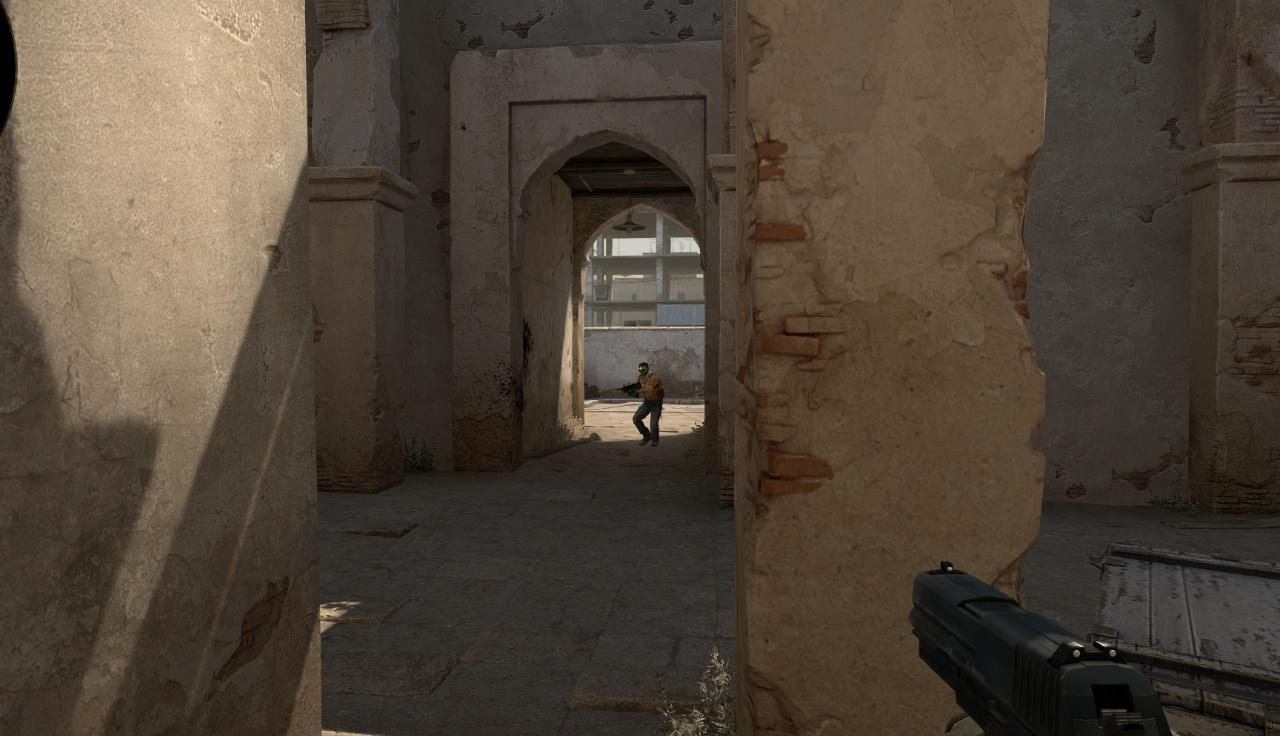pistol: (907, 562, 1161, 736)
tt: (634, 362, 662, 447)
tthead: (640, 363, 649, 376)
